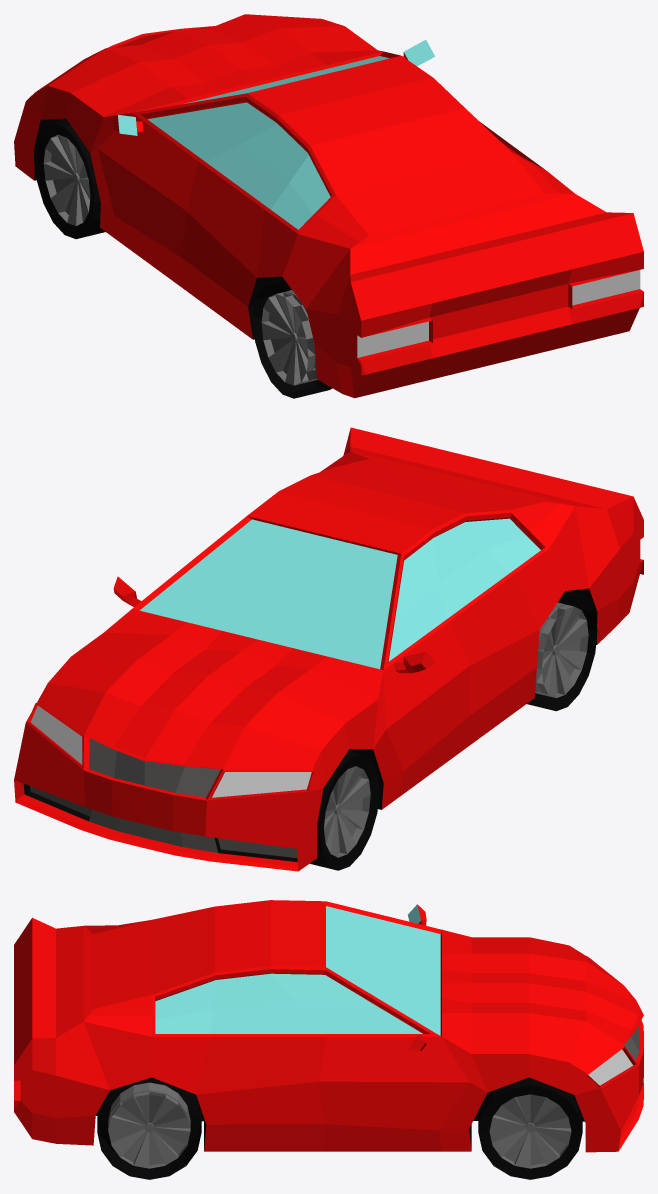
The model's file is car.obj.
3 views of the same model, one above another, from view 1: azimuth 30°, elevation 25°; view 2: azimuth 150°, elevation 25°; view 3: azimuth 270°, elevation 25° (orthographic). The views are drawn at different scales.
Parts seen in each view (by area): view 1: Cube; view 2: Cube; view 3: Cube.
Part boxes in pixels (x1,y1,x2,y2): Cube: [14, 14, 643, 398]; Cube: [14, 427, 643, 871]; Cube: [14, 900, 643, 1179].
Size of the model in its own units: 2.2 by 1.41 by 4.34.
